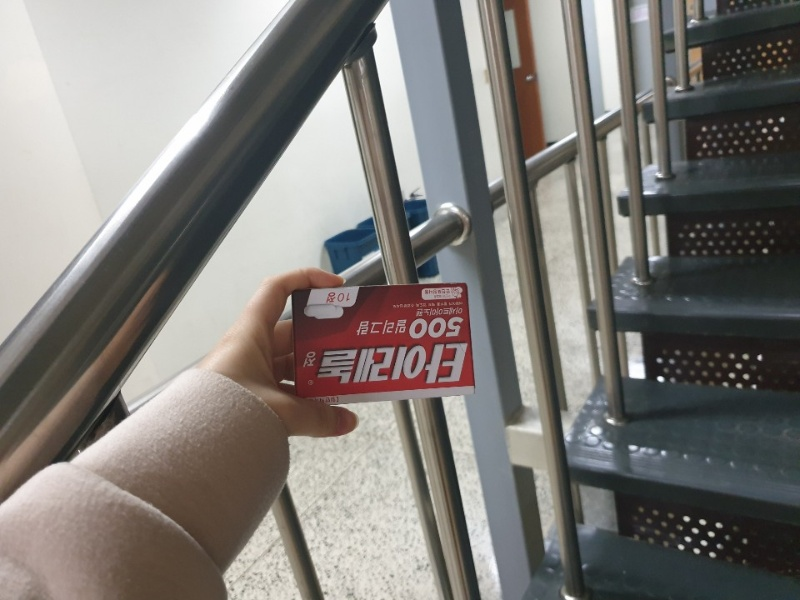tylenol: (291, 284, 476, 401)
